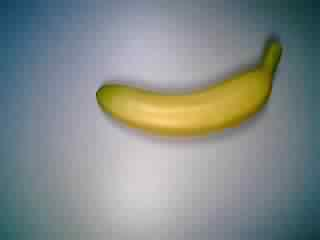banana: (92, 34, 286, 148)
